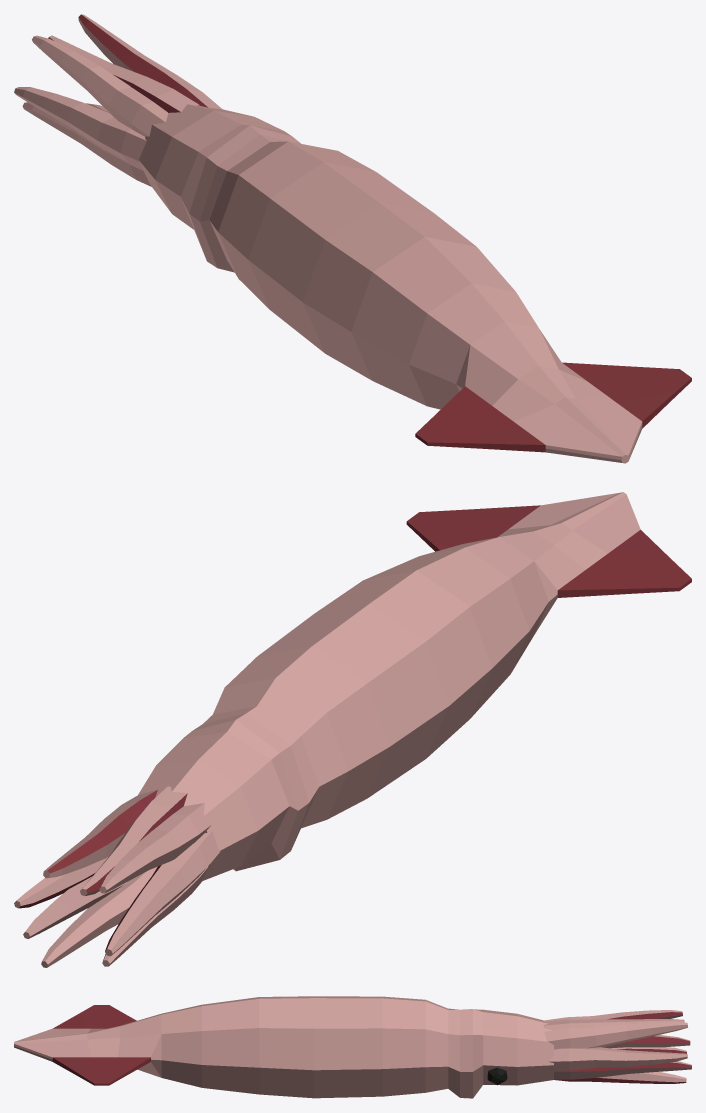
File: 7zWPX7vtBXO.glb
3 views of the same model, one above another, from view 1: azimuth 30°, elevation 25°; view 2: azimuth 150°, elevation 25°; view 3: azimuth 270°, elevation 25° (orthographic). The views are drawn at different scales.
Visible parts, largest first — view 1: Geo_Squid; view 2: Geo_Squid; view 3: Geo_Squid.
Part boxes in pixels (box(x1,y1,x2,y2)): Geo_Squid: box(14, 14, 691, 463); Geo_Squid: box(14, 492, 691, 967); Geo_Squid: box(14, 996, 691, 1098).
Size of the model in its own units: 1.68 by 0.9999 by 6.11.
1 material, 1 textured.
